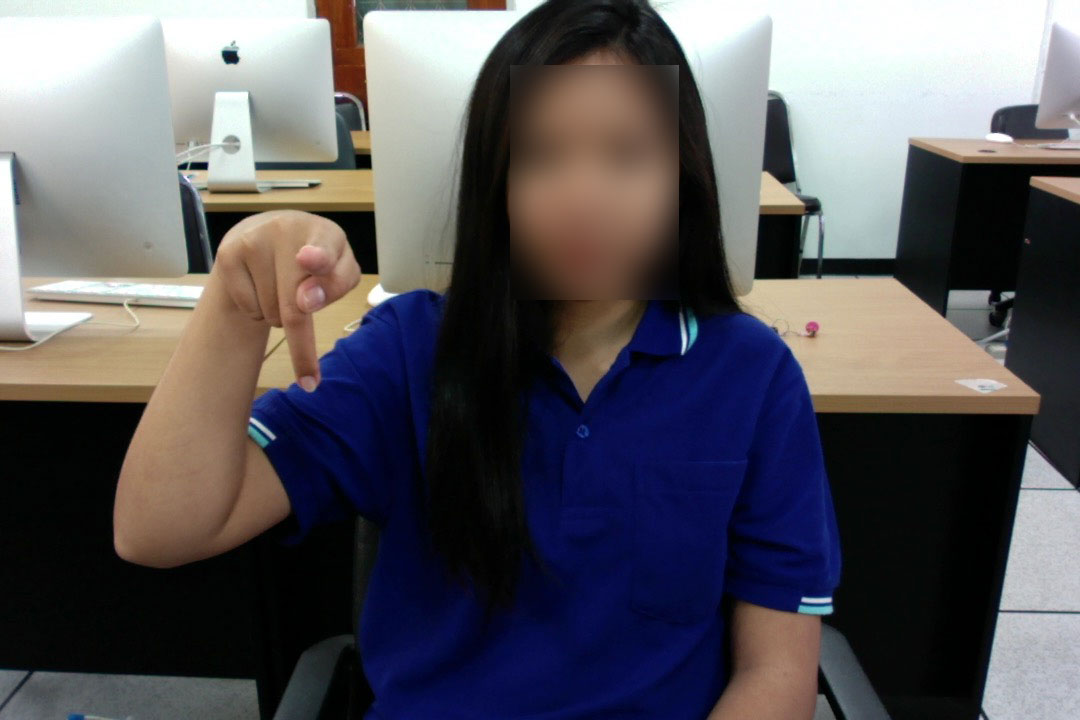por: (208, 196, 368, 398)
